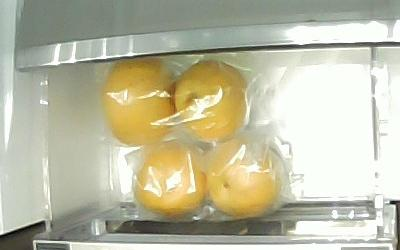pear_vinyl: (101, 58, 178, 146), (205, 135, 281, 218), (172, 58, 248, 140), (132, 137, 210, 216)
